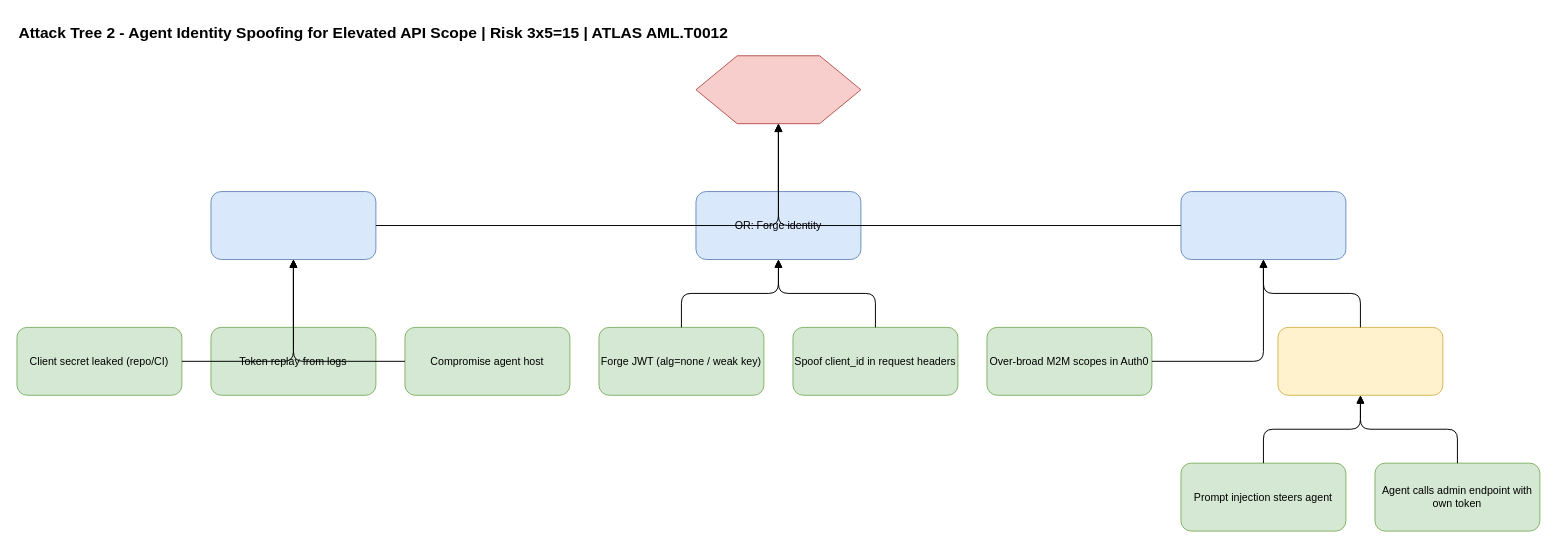
The diagram is 1557 pixels wide and 548 high, and some of its shapes have lost their labels. The shapes that lost their labels are listed below. From the top down, each one's centre as x and y in pixels, then its label:
At point 778,89: "GOAL: Gain elevated API scope as agent".
At point 293,225: "OR: Steal agent credentials".
At point 1263,225: "OR: Abuse scope grant".
At point 1360,360: "AND: Confused deputy".
